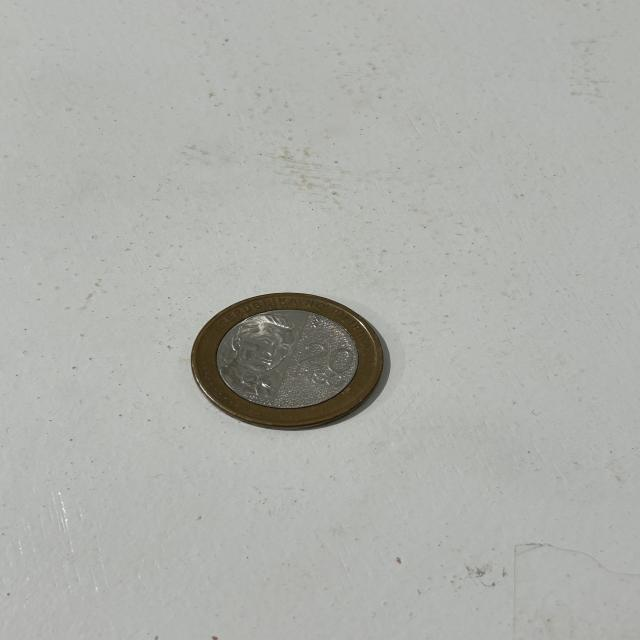20_New_Front: (294, 339, 360, 388)
